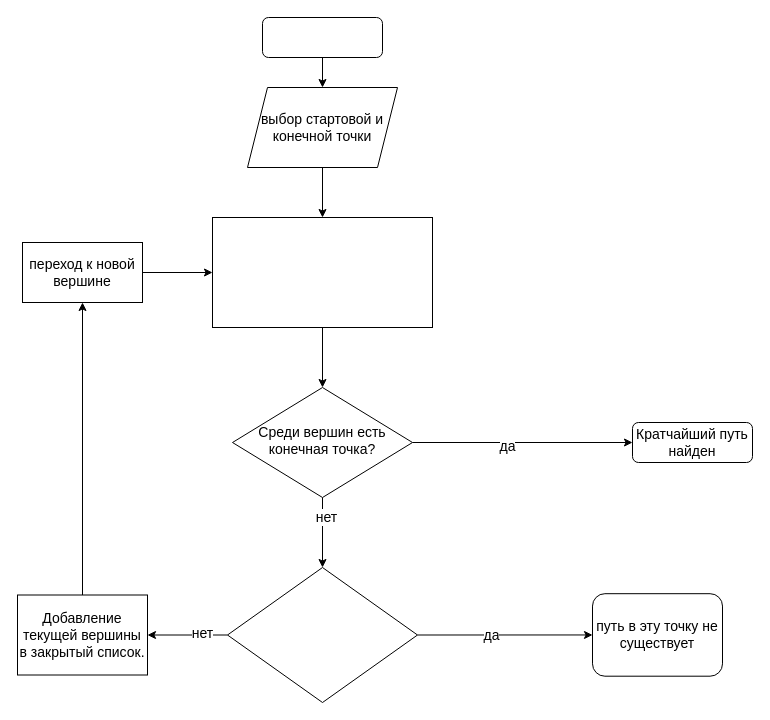
Some shapes in this 770 by 720 pixel diagram are drawn without their labels. The shapes that lost their labels are listed below. From the top down, each one's centre as x and y in pixels, then its label:
At (x=322, y=37): "начало".
At (x=322, y=272): "обход всех смежных вершин (с добавлением их в открытый список и расчётом f(x)).".
At (x=322, y=634): "Открытый список пуст?".
